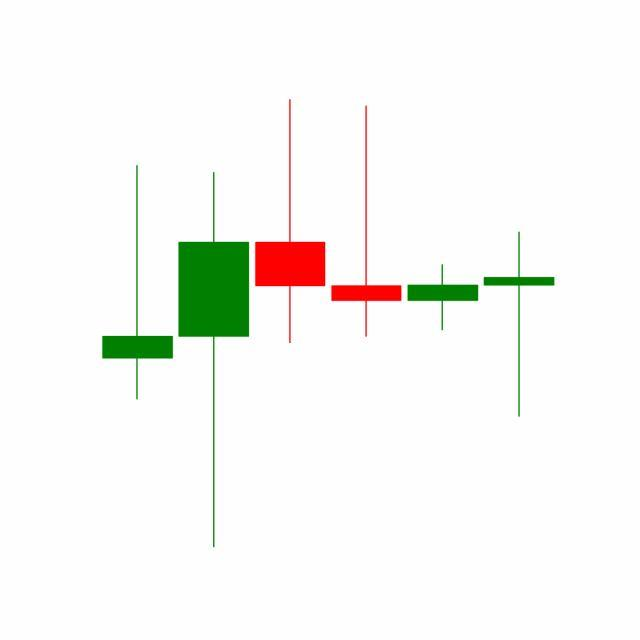Dragonfly Doji: (404, 263, 482, 332)
